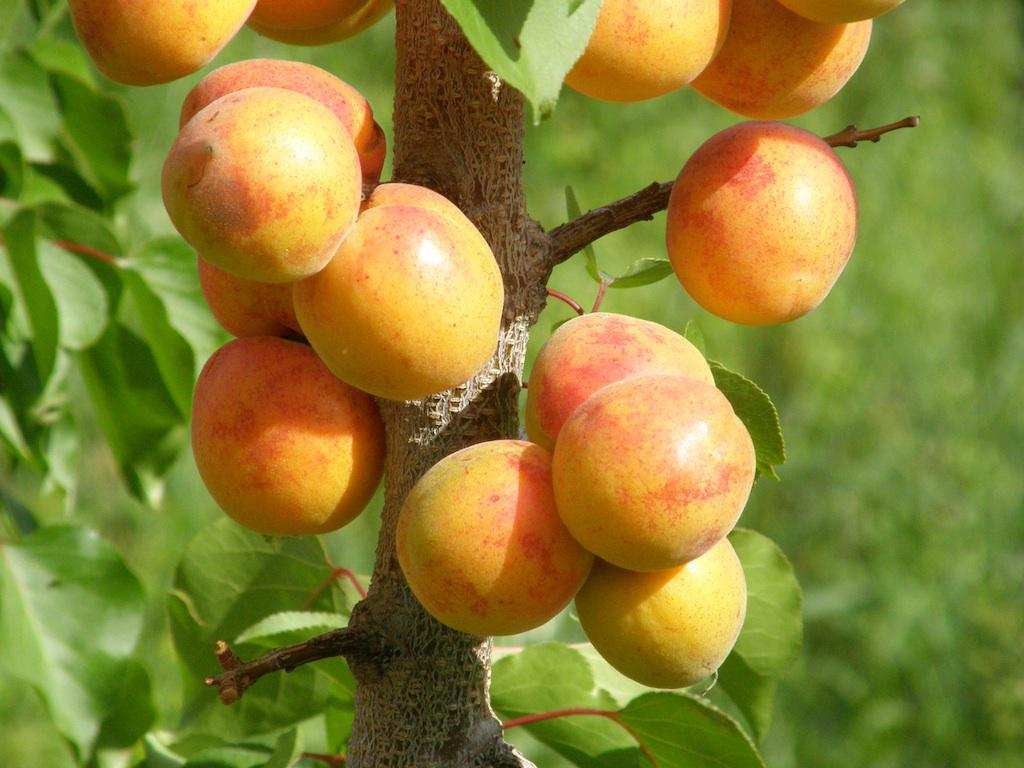Tree: (0, 2, 929, 765)
